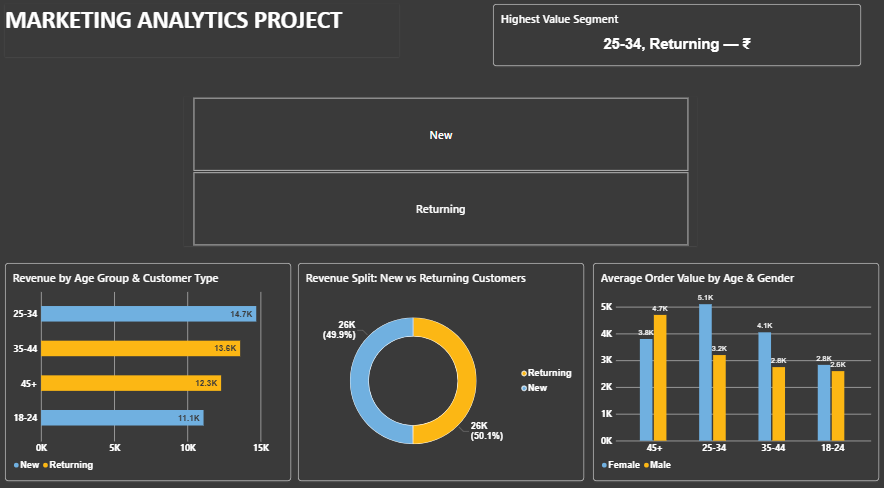

This screenshot's page, from the dashboard's own definition file:
{"tool":"powerbi","page":{"name":"Audience Intelligence","canvas":[1920,1080],"ordinal":2},"visuals":[{"type":"barChart","title":"Revenue by Age Group & Customer Type","fields":{"Category":["tbl_audience.age_group"],"Y":["Sum(tbl_audience.total_revenue)"],"Series":["tbl_audience.customer_type"]},"box":[17.3,576.7,617.8,470.9],"z":0},{"type":"donutChart","title":"Revenue Split: New vs Returning Customers","fields":{"Category":["tbl_audience.customer_type"],"Y":["Sum(tbl_audience.total_revenue)"]},"box":[650.2,576.7,617.8,470.9],"z":1000},{"type":"clusteredColumnChart","title":"Average Order Value by Age & Gender","fields":{"Category":["tbl_audience.age_group"],"Y":["Sum(tbl_audience.avg_order_value)"],"Series":["tbl_audience.gender"]},"box":[1287.4,576.7,617.8,470.9],"z":2000},{"type":"card","title":"Highest Value Segment","fields":{"Values":["tbl_audience.Best AOV Segment"]},"box":[1071.4,17.3,794.9,133.9],"z":3000},{"type":"slicer","fields":{"Values":["tbl_audience.customer_type"]},"box":[403.9,218.2,1108.1,321.8],"z":4000},{"type":"textbox","box":[17.3,17.3,851,114.5],"z":5000}]}

Visuals, with their boxes in screenshot pixels (x1, y1, x2, y2), scaled from the page's 1920x1080 canvas onto the 884x488 screenshot:
"Revenue by Age Group & Customer Type" barChart: left=8, top=261, right=292, bottom=473
"Revenue Split: New vs Returning Customers" donutChart: left=299, top=261, right=584, bottom=473
"Average Order Value by Age & Gender" clusteredColumnChart: left=593, top=261, right=877, bottom=473
"Highest Value Segment" card: left=493, top=8, right=859, bottom=68
slicer - tbl_audience.customer_type: left=186, top=99, right=696, bottom=244
textbox: left=8, top=8, right=400, bottom=60
